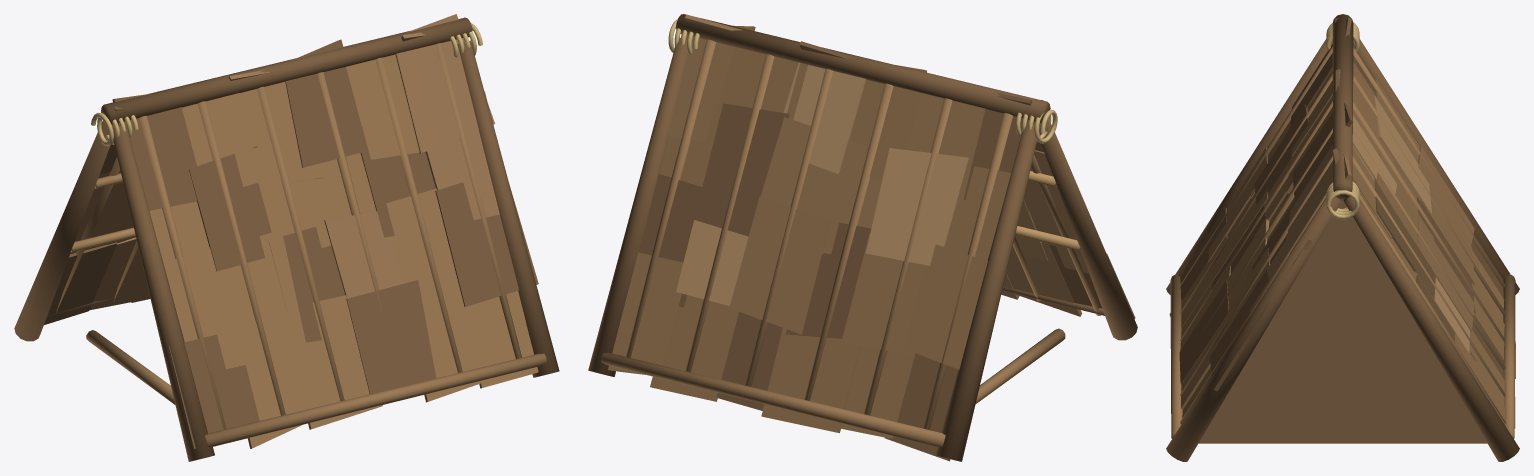
File: tent.glb
3 renders of one model, left to right at view 1: azimuth 30°, elevation 25°; view 2: azimuth 150°, elevation 25°; view 3: azimuth 270°, elevation 25°, orthographic. The views are drawn at different scales.
Parts seen in each view (by area): view 1: ridgepole, front_support_l, roof_cover_-1_0_3, roof_cover_-1_3_5, rear_support_l, roof_cover_-1_1_5, roof_cover_-1_2_1, roof_cover_-1_3_3, roof_cover_-1_1_0, roof_cover_-1_1_1, roof_cover_-1_0_2, eave_rail_-1 (+31 smaller); view 2: roof_cover_1_1_3, roof_cover_1_2_1, front_support_r, ridgepole, roof_cover_1_2_4, roof_cover_1_1_0, rear_support_r, roof_cover_1_0_2, roof_cover_1_1_1, roof_cover_1_0_5, eave_rail_1, front_support_l (+33 smaller); view 3: rear_gable, rear_support_r, rear_support_l, ridgepole, front_support_l, front_support_r, roof_cover_1_2_1, roof_cover_1_1_3, roof_cover_-1_0_3, eave_rail_1, eave_rail_-1, roof_cover_1_2_4 (+51 smaller).
Part boxes in pixels (<box>): ridgepole: <box>101,17,472,125</box>; front_support_l: <box>112,125,214,461</box>; roof_cover_-1_0_3: <box>346,280,436,394</box>; roof_cover_-1_3_5: <box>395,14,494,153</box>; rear_support_l: <box>457,40,559,377</box>; roof_cover_-1_1_5: <box>435,182,538,306</box>; roof_cover_-1_2_1: <box>189,146,271,271</box>; roof_cover_-1_3_3: <box>285,39,363,167</box>; roof_cover_-1_1_0: <box>163,248,251,369</box>; roof_cover_-1_1_1: <box>228,229,305,350</box>; roof_cover_-1_0_2: <box>301,295,382,429</box>; eave_rail_-1: <box>205,353,546,446</box>; roof_cover_1_1_3: <box>729,196,829,334</box>; roof_cover_1_2_1: <box>866,148,968,265</box>; front_support_r: <box>935,122,1040,461</box>; ridgepole: <box>676,14,1050,122</box>; roof_cover_1_2_4: <box>694,103,789,236</box>; roof_cover_1_1_0: <box>904,244,987,369</box>; rear_support_r: <box>588,37,688,376</box>; roof_cover_1_0_2: <box>761,328,860,433</box>; roof_cover_1_1_1: <box>841,233,924,354</box>; roof_cover_1_0_5: <box>608,249,682,374</box>; eave_rail_1: <box>601,353,945,446</box>; front_support_l: <box>1039,118,1137,340</box>; rear_gable: <box>1198,199,1487,443</box>; rear_support_r: <box>1343,196,1519,461</box>; rear_support_l: <box>1166,198,1342,461</box>; ridgepole: <box>1332,14,1353,199</box>; front_support_l: <box>1166,39,1332,294</box>; front_support_r: <box>1353,36,1519,294</box>; roof_cover_1_2_1: <box>1374,95,1431,214</box>; roof_cover_1_1_3: <box>1416,218,1474,331</box>; roof_cover_-1_0_3: <box>1179,280,1228,383</box>; eave_rail_1: <box>1503,274,1515,438</box>; eave_rail_-1: <box>1170,274,1182,438</box>; roof_cover_1_2_4: <box>1374,178,1435,299</box>.
Bounding box in the file's own units: 2.04 × 1.57 × 1.75.
